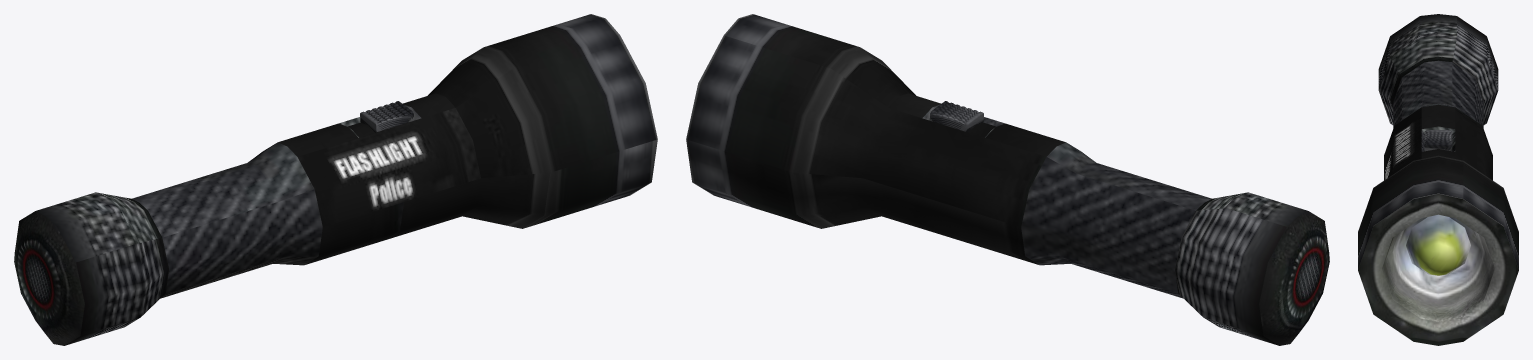
Rendered from Flash.fbx.
3 views of the same model, side by side, from view 1: azimuth 30°, elevation 25°; view 2: azimuth 150°, elevation 25°; view 3: azimuth 270°, elevation 25° (orthographic). The views are drawn at different scales.
Visible parts, largest first — view 1: Boddy, Button; view 2: Boddy, Button; view 3: Boddy, Button.
Part boxes in pixels (<box>): Boddy: <box>14,14,657,345</box>; Button: <box>360,101,414,132</box>; Boddy: <box>686,14,1329,345</box>; Button: <box>929,101,983,132</box>; Boddy: <box>1358,14,1518,345</box>; Button: <box>1424,130,1452,151</box>.
Bounding box in the file's own units: 13.65 × 4.29 × 3.85.
4 materials, 4 textured.
